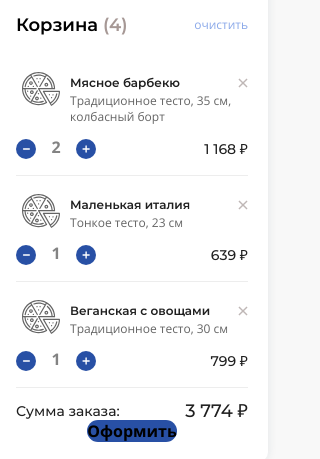
<Cart> › корзина очищается при клике на кнопку
The image size is (320, 459).
Expected: the heading reads "Корзина (4)", x1=16 y1=16 x2=128 y2=34
Click the button "очистить" at {"x": 221, "y": 25}, box x1=194 y1=19 x2=248 y2=31
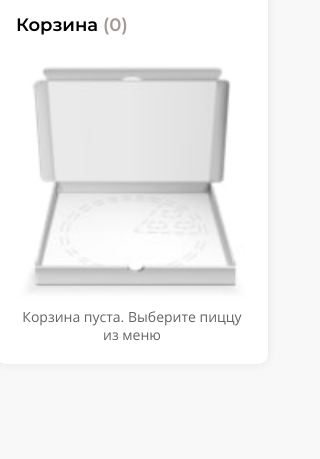
Expected: the text "Корзина пуста. Выберите пиццу из меню" is shown, x1=16 y1=308 x2=248 y2=344
